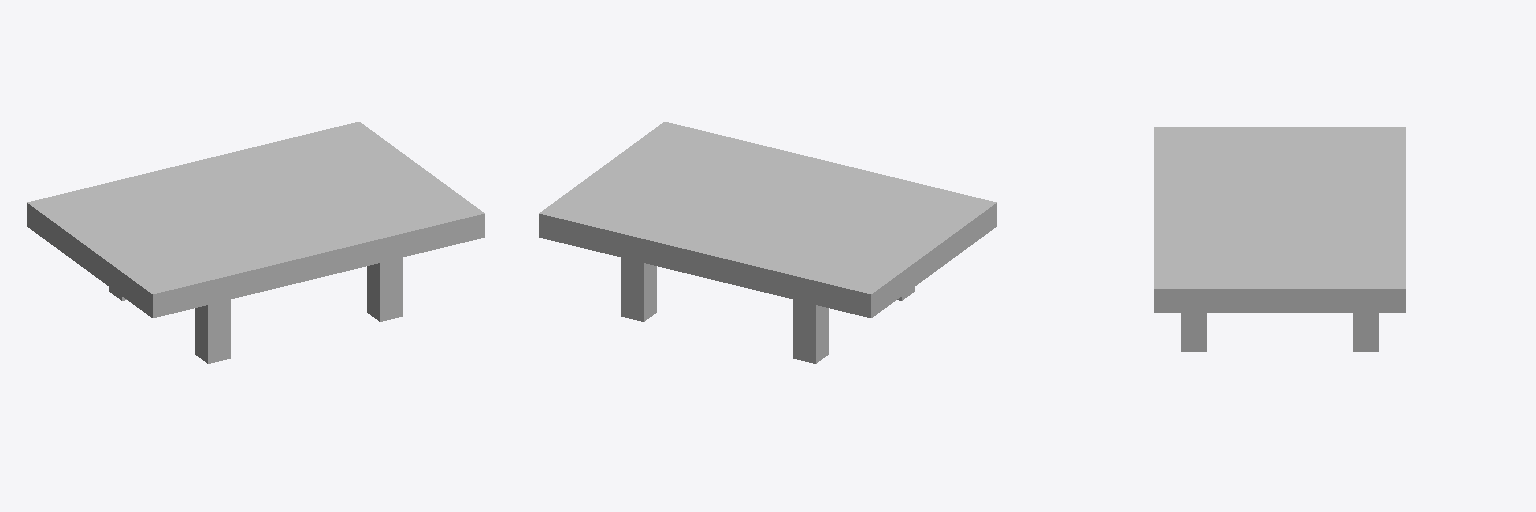
The model's file is table.obj.
3 views of the same model, side by side, from view 1: azimuth 30°, elevation 25°; view 2: azimuth 150°, elevation 25°; view 3: azimuth 270°, elevation 25° (orthographic).
Visible parts, largest first — view 1: table; view 2: table; view 3: table.
Part boxes in pixels (left/top/right/bottom): table: left=27, top=122, right=484, bottom=363; table: left=539, top=122, right=996, bottom=363; table: left=1154, top=127, right=1405, bottom=351.
Bounding box in the file's own units: 29 × 8 × 19.